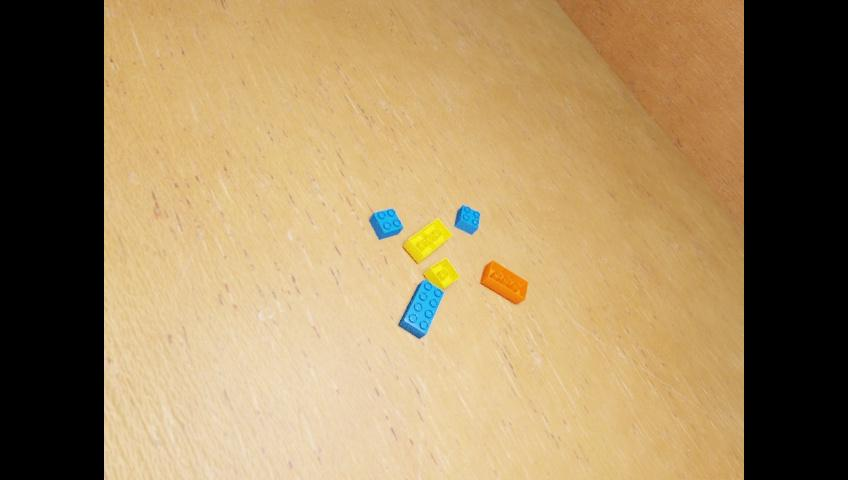2x2_blue: (368, 207, 403, 239), (454, 204, 479, 234)
2x2_yellow: (424, 257, 459, 289)
4x2_blue: (397, 278, 443, 338)
4x2_orange: (480, 259, 527, 303)
4x2_yellow: (403, 217, 451, 263)
